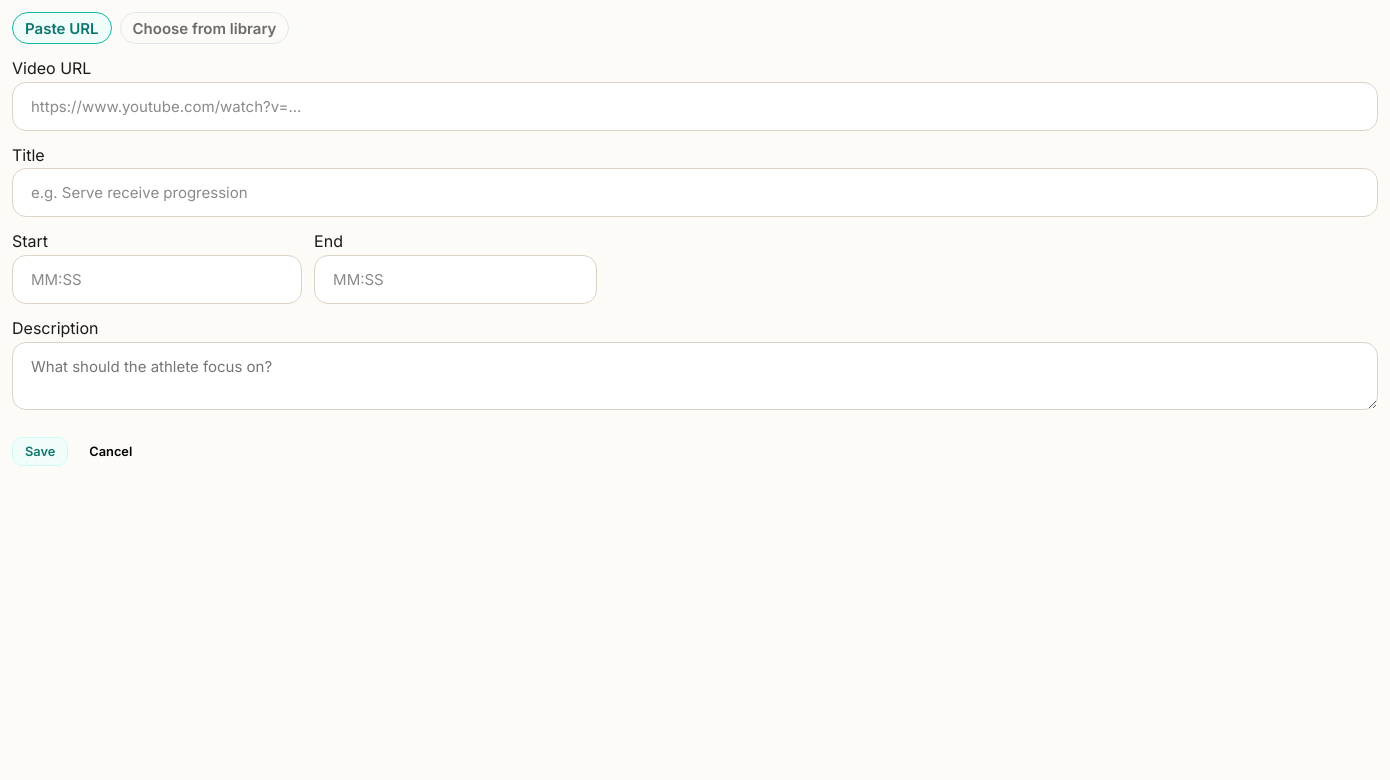
Test: VideoForm › surfaces api validation errors
The width and height of the screenshot is (1390, 780).
Type "https://youtu.be/ABC123" into the field labelled "Video URL" at (695, 106), box [12, 82, 1378, 131]
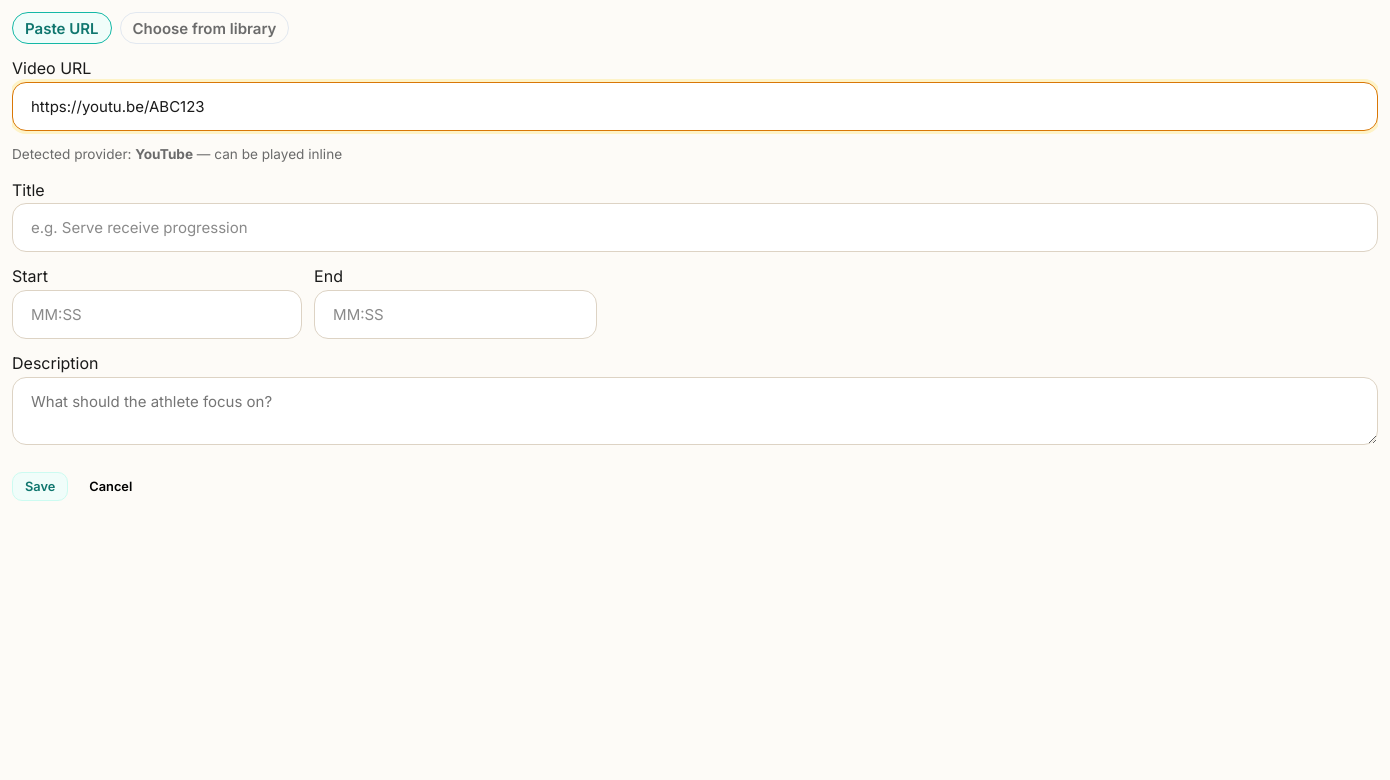
Click the button "Save" at (40, 487), box [12, 472, 68, 501]
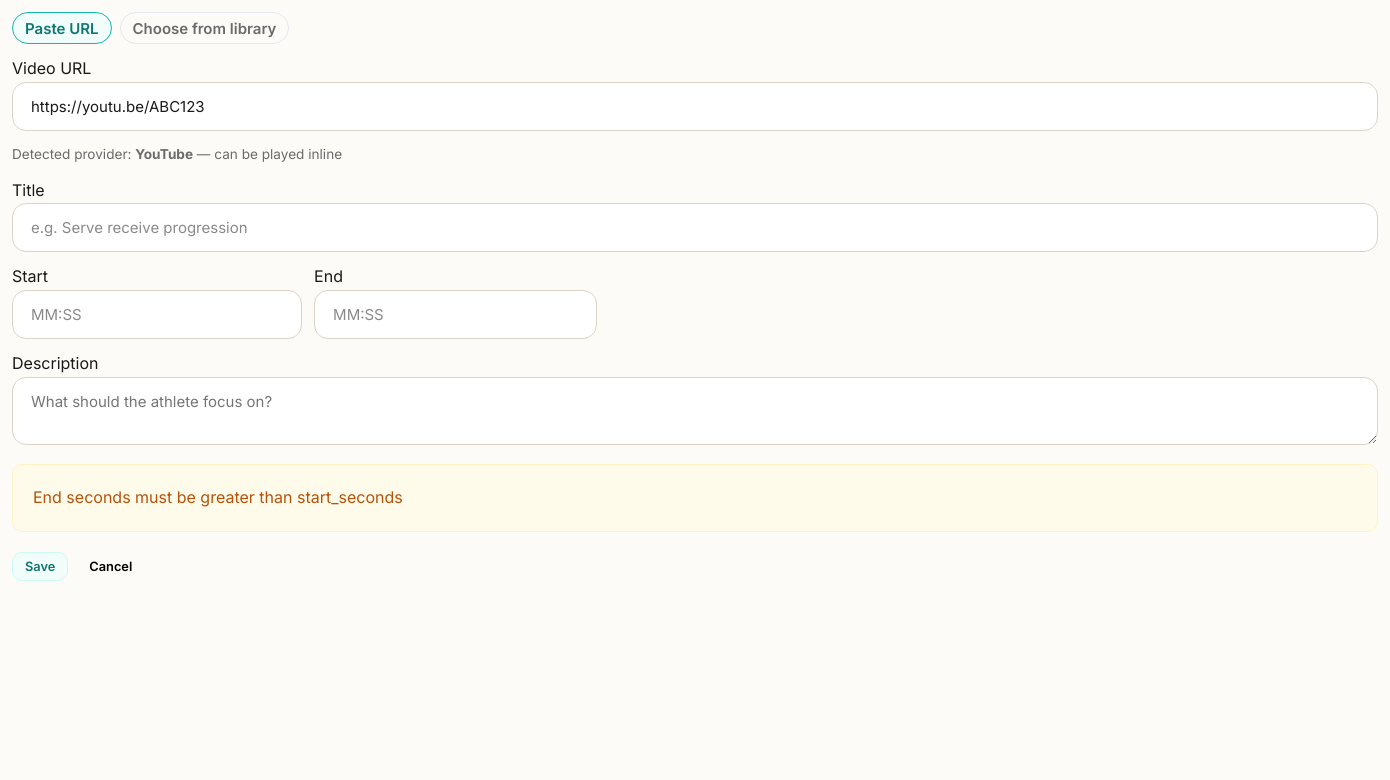
Expected: the list item "End seconds must be greater than start_seconds" is shown, [33, 487, 403, 507]
